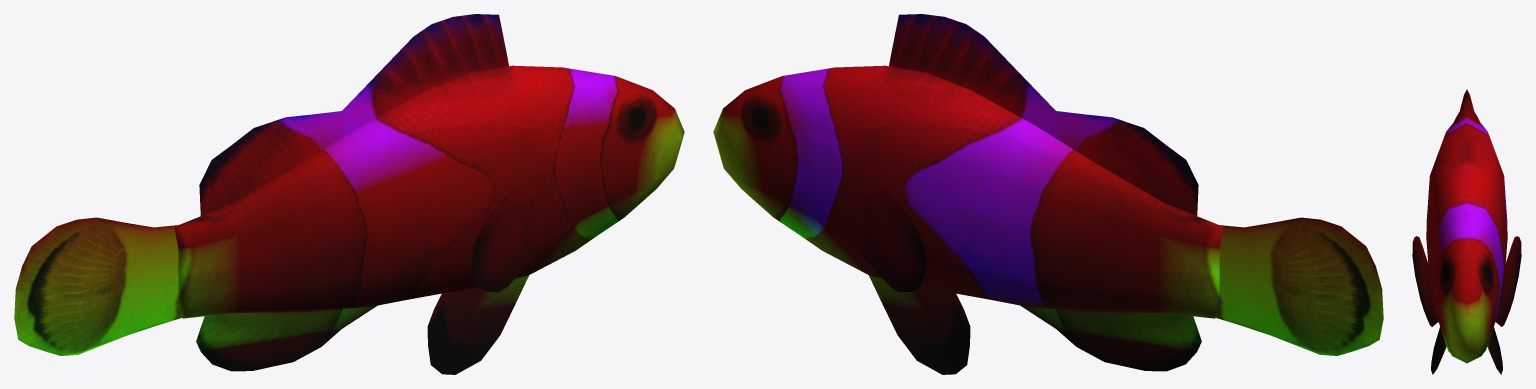
The model's file is clownfish.glb.
3 renders of one model, left to right at view 1: azimuth 30°, elevation 25°; view 2: azimuth 150°, elevation 25°; view 3: azimuth 270°, elevation 25°, orthographic. The views are drawn at different scales.
Visible parts, largest first — view 1: Clownfish; view 2: Clownfish; view 3: Clownfish.
Boxes of the visible parts, x1,y1,x2,y2 form: Clownfish: (14, 14, 684, 374); Clownfish: (713, 14, 1383, 374); Clownfish: (1412, 89, 1521, 374).
Bounding box in the file's own units: 1 × 0.4823 × 0.1625.
1 material, 1 textured.
